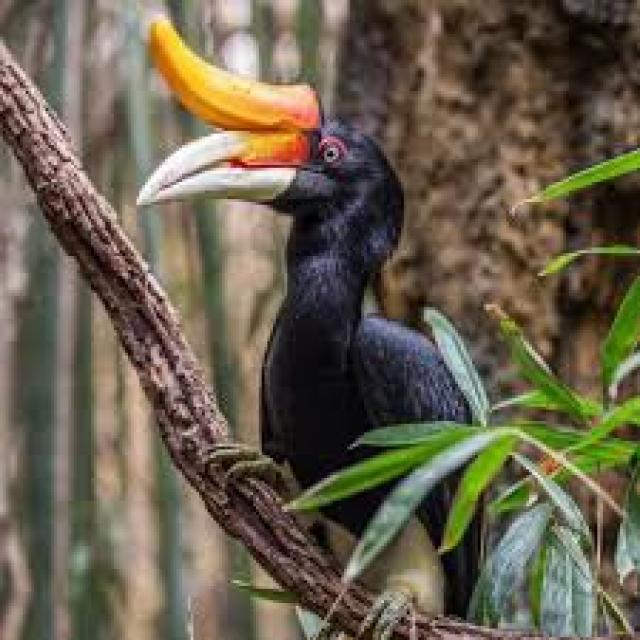Hornbill: (136, 17, 491, 577)
